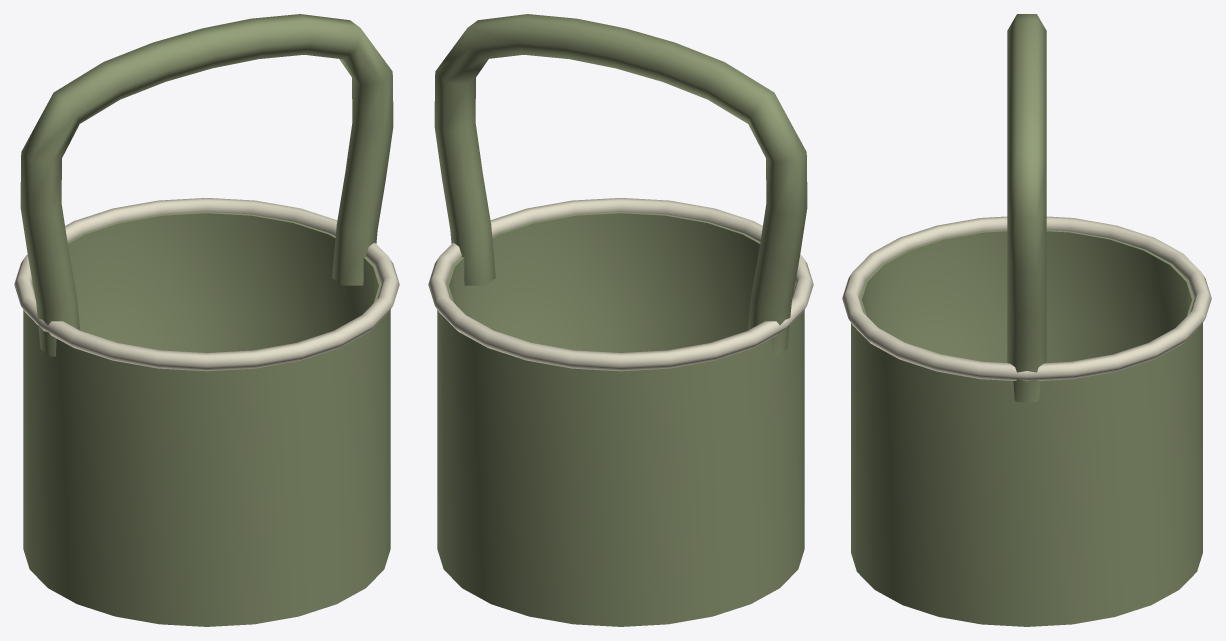
Rendered from creature-husbandry-and-transport-travelling-feed-bag-265c7ecc__24025.glb.
The picture shows the model from 3 angles, left to right: view 1: azimuth 30°, elevation 25°; view 2: azimuth 150°, elevation 25°; view 3: azimuth 270°, elevation 25°; orthographic projection. The views are drawn at different scales.
Visible parts, largest first — view 1: travelling-feed-bag; view 2: travelling-feed-bag; view 3: travelling-feed-bag.
Part boxes in pixels (x1=…): travelling-feed-bag: x1=14, y1=14, x2=399, y2=626; travelling-feed-bag: x1=428, y1=14, x2=813, y2=626; travelling-feed-bag: x1=842, y1=14, x2=1211, y2=626.
Bounding box in the file's own units: 0.5474 × 0.7659 × 0.504.
